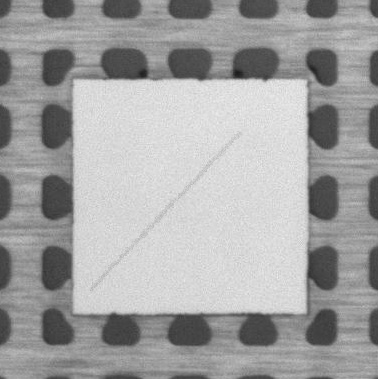DIE_CRACK: (91, 133, 239, 290)
